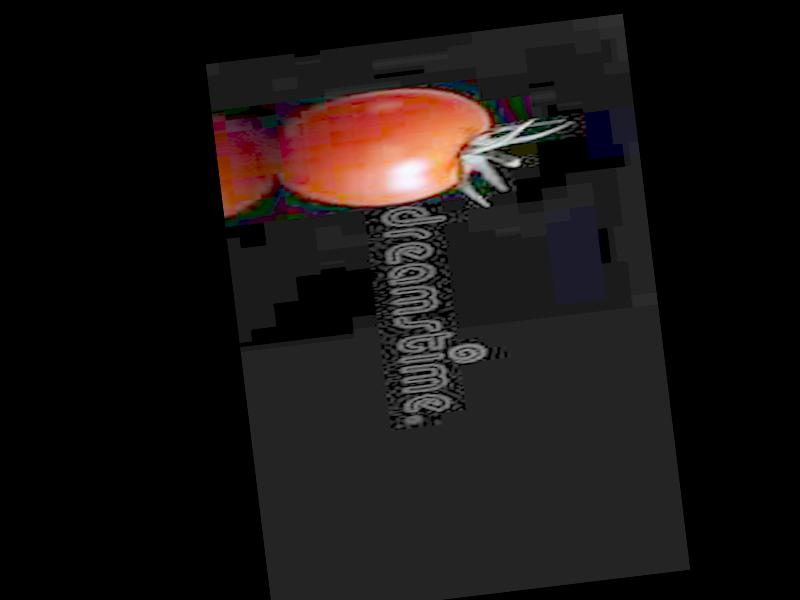Tomato: (274, 79, 499, 216)
